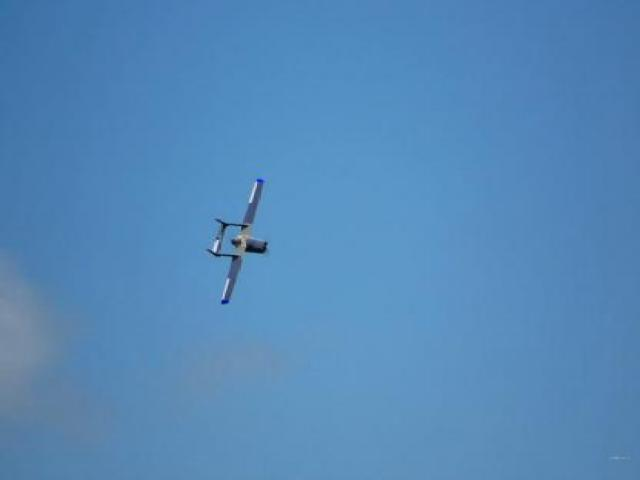uav: (208, 171, 274, 306)
